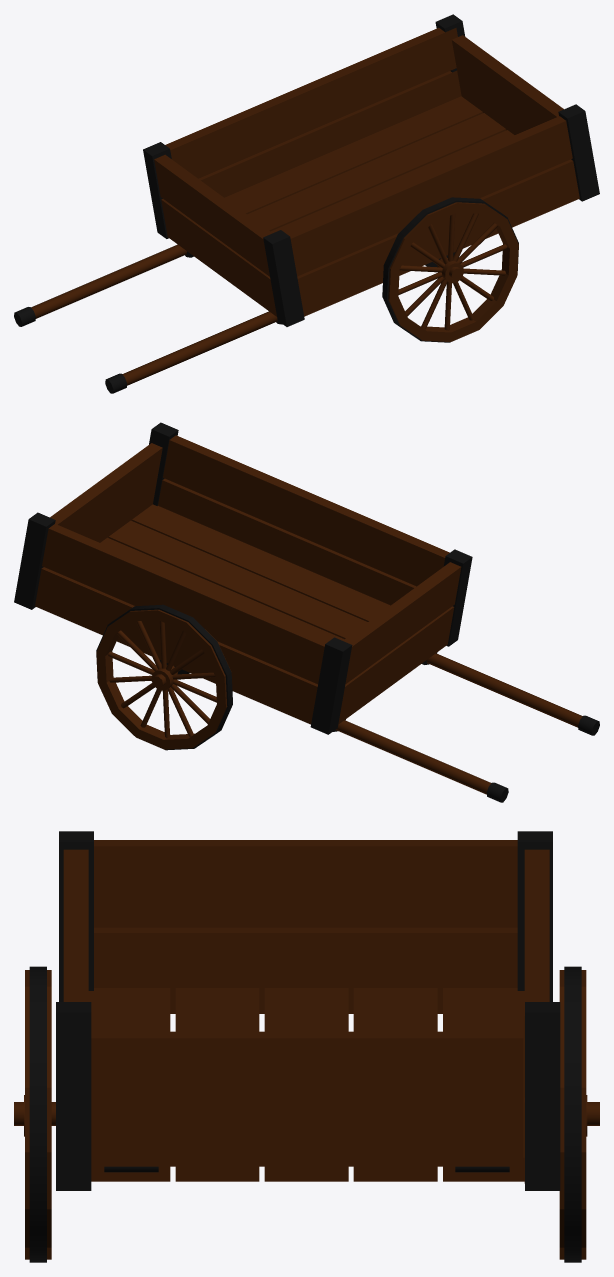
The model's file is Wagon.fbx.
The picture shows the model from 3 angles, top to bottom: view 1: azimuth 30°, elevation 25°; view 2: azimuth 150°, elevation 25°; view 3: azimuth 270°, elevation 25°; orthographic projection. The views are drawn at different scales.
Parts seen in each view (by area): view 1: Wagon; view 2: Wagon; view 3: Wagon.
Part boxes in pixels (<box>): Wagon: <box>14,14,599,393</box>; Wagon: <box>14,422,599,802</box>; Wagon: <box>14,831,599,1262</box>.
Size of the model in its own units: 266 by 104 by 150.
